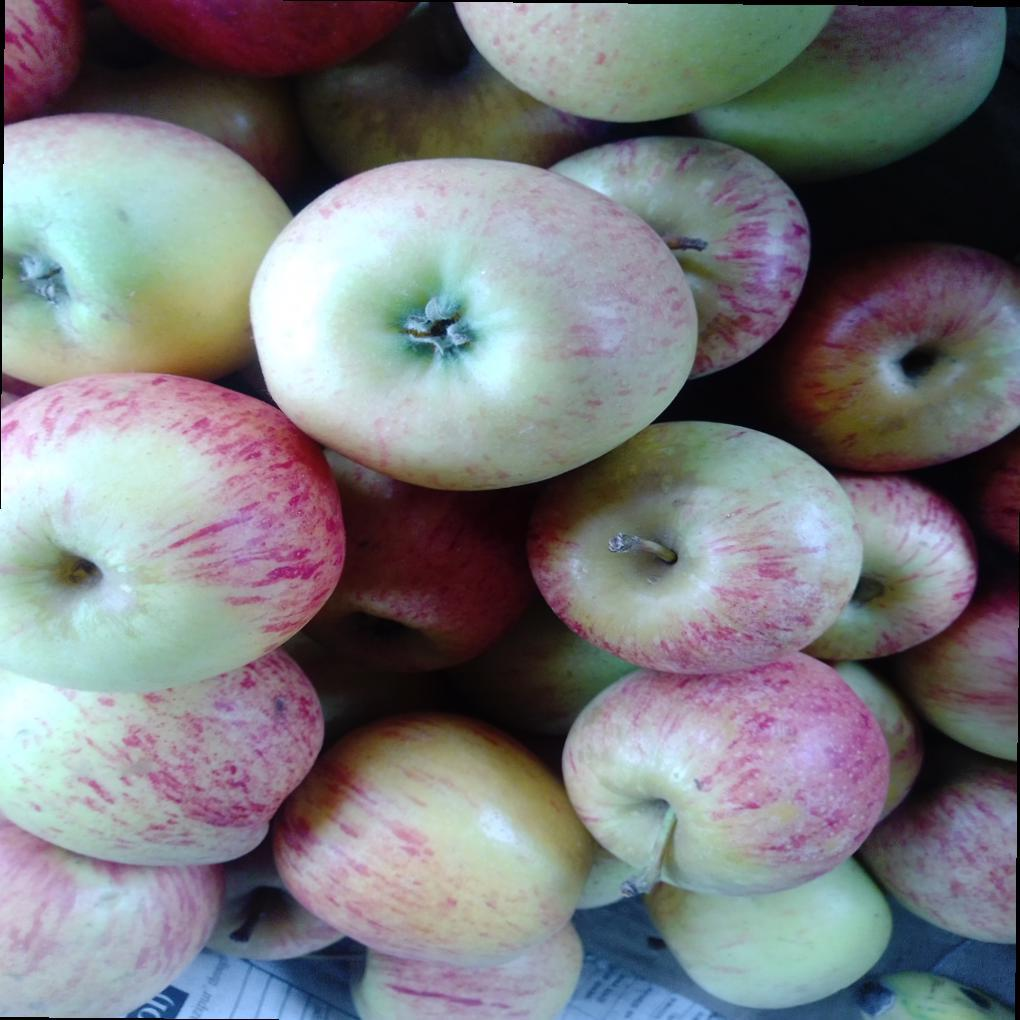FreshGuava: (0, 25, 952, 960)
